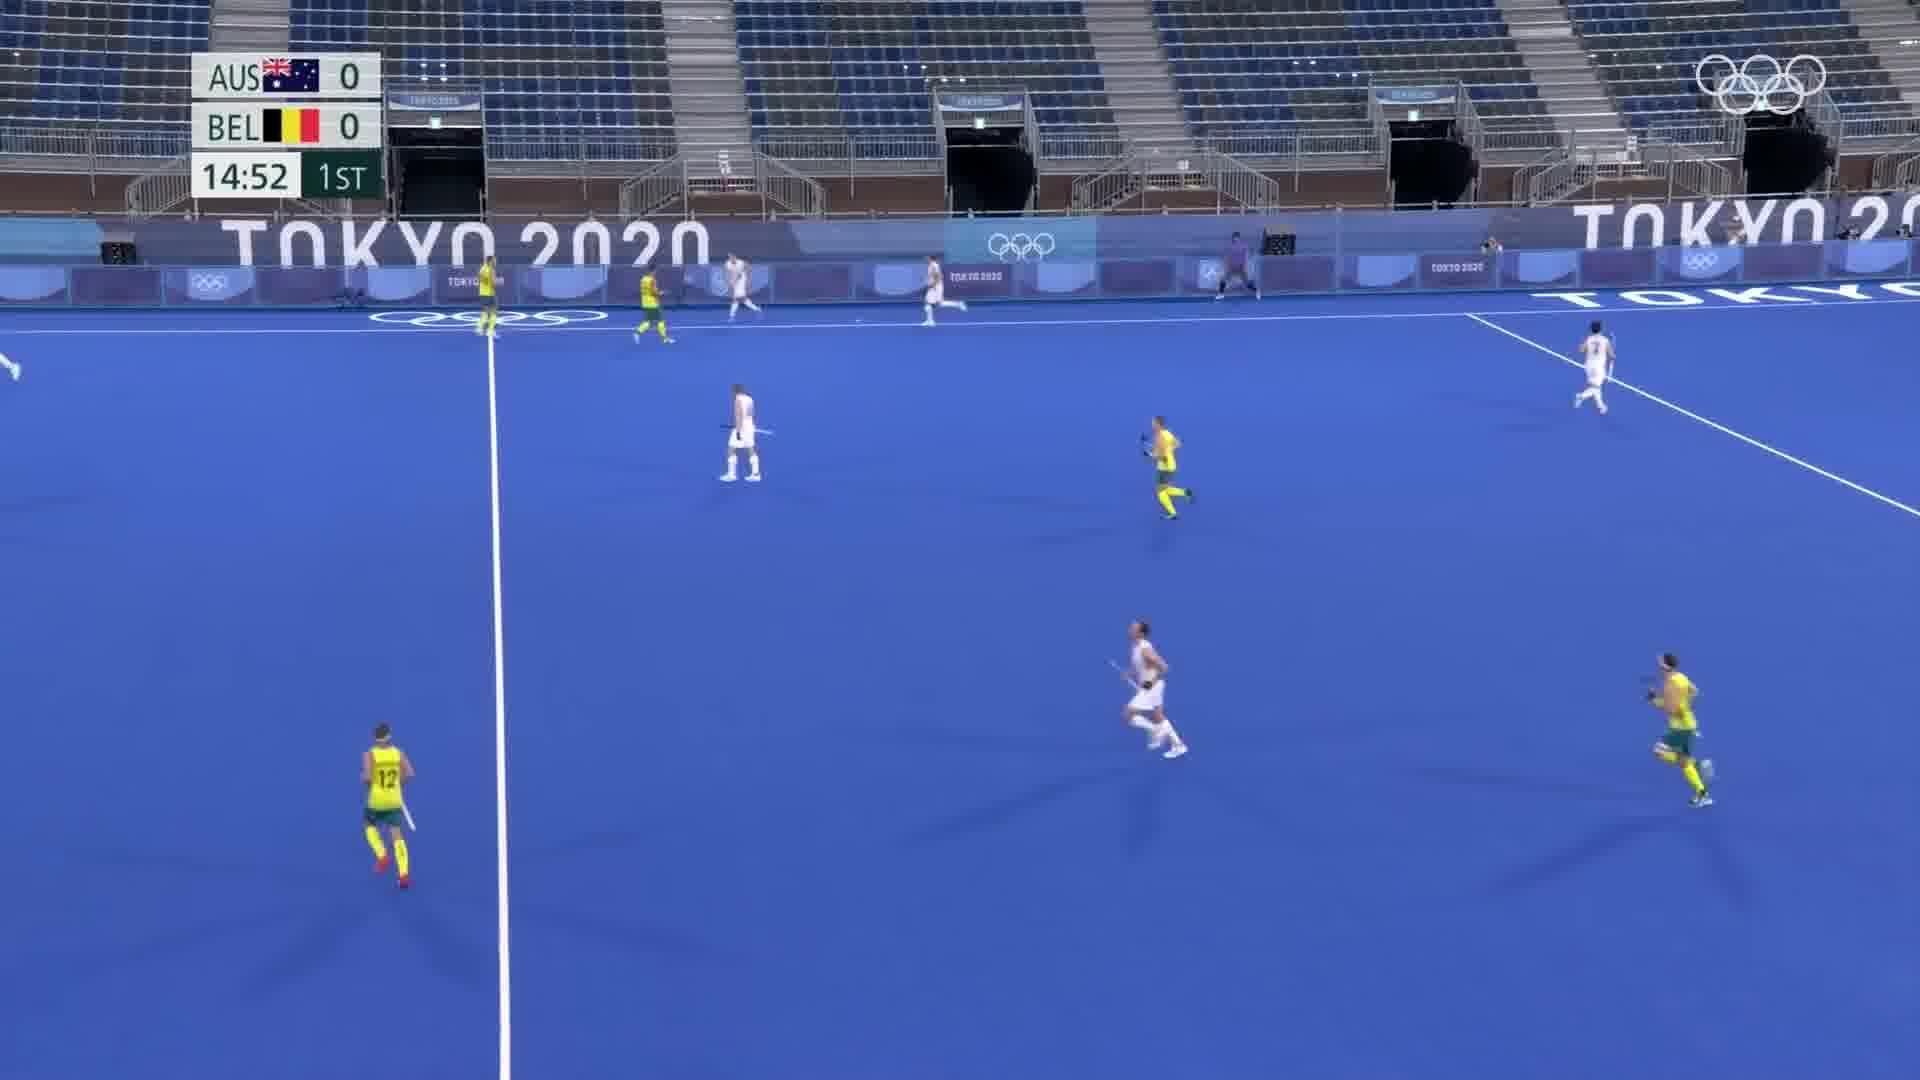ball: (845, 307, 872, 324)
